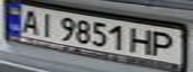1: (106, 22, 130, 52)
5: (90, 20, 109, 47)
8: (72, 17, 93, 46)
9: (54, 15, 78, 43)
A: (18, 7, 42, 35)
H: (127, 25, 157, 55)
I: (33, 10, 60, 38)
P: (148, 29, 181, 57)
